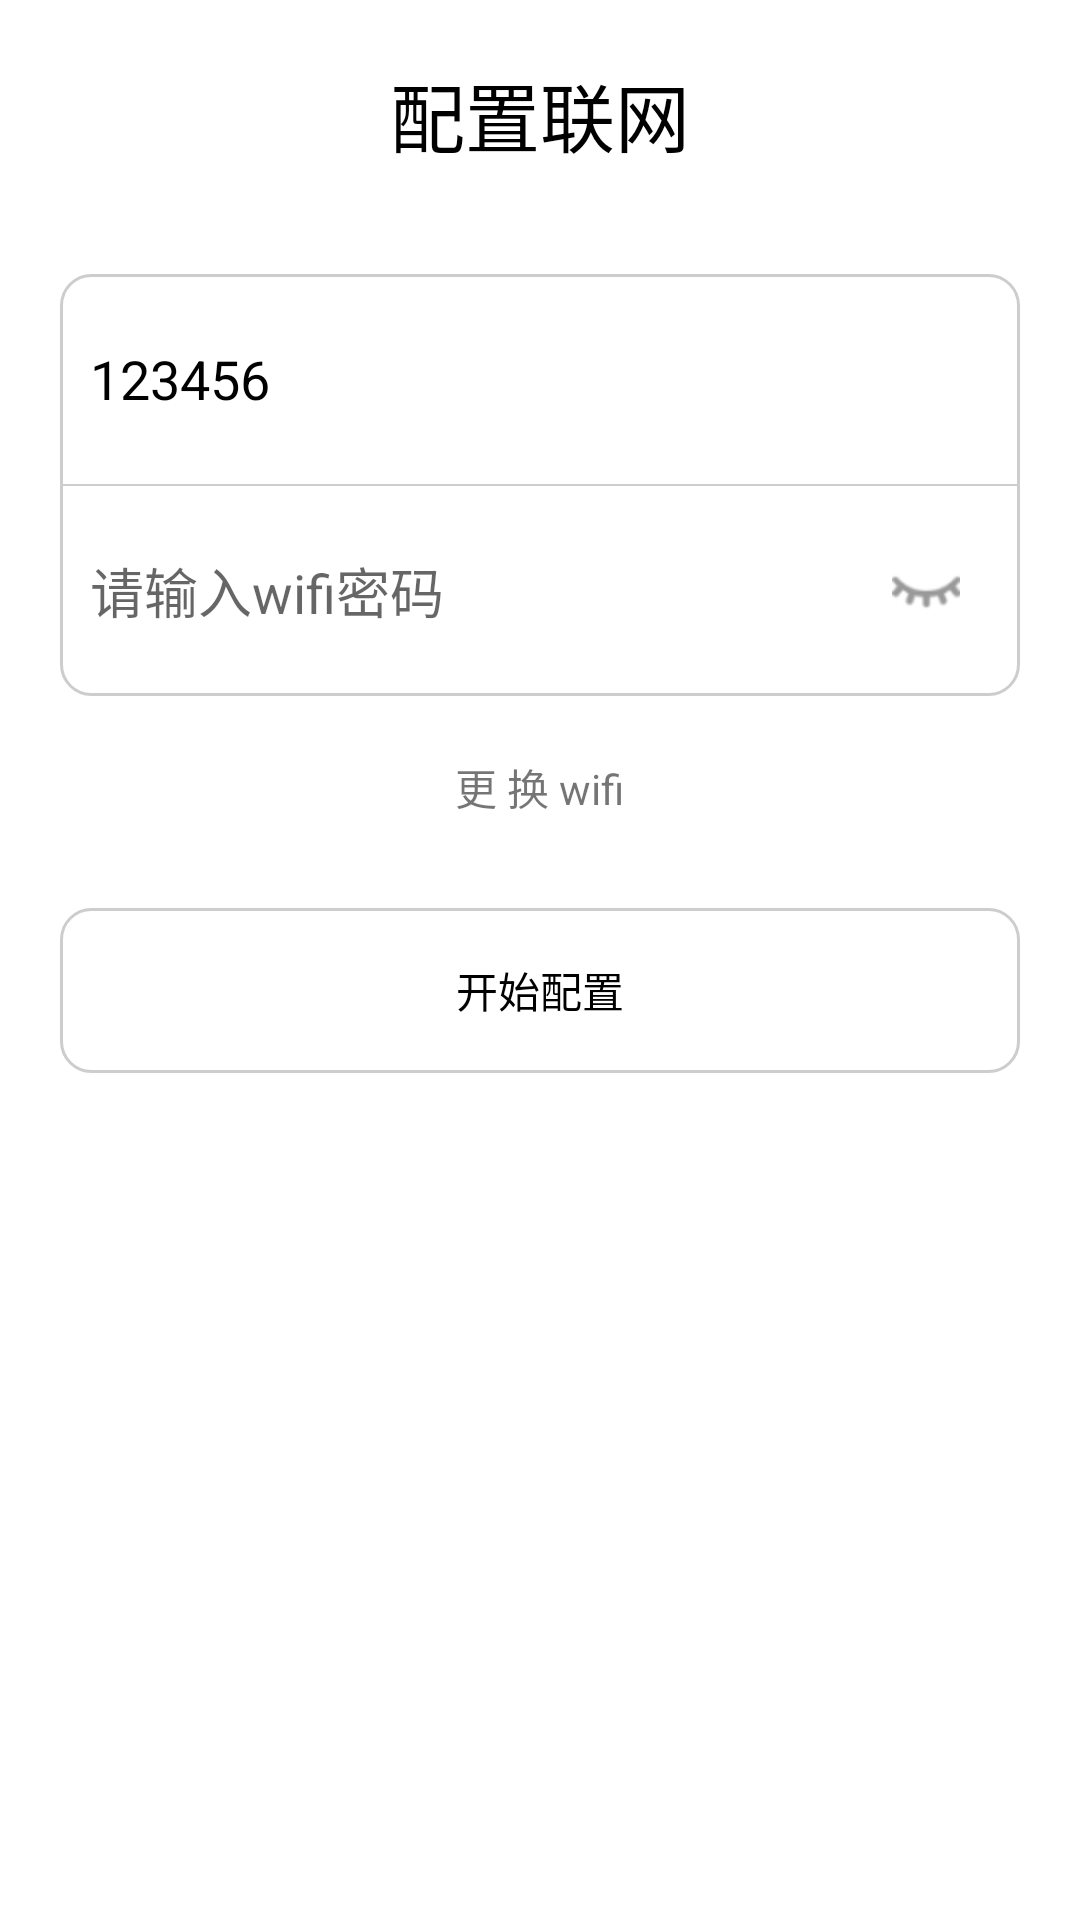

Icons on this 1080×1920 Android screen, each with the point to tap as [x,y]:
pwd hide: [926,592]
